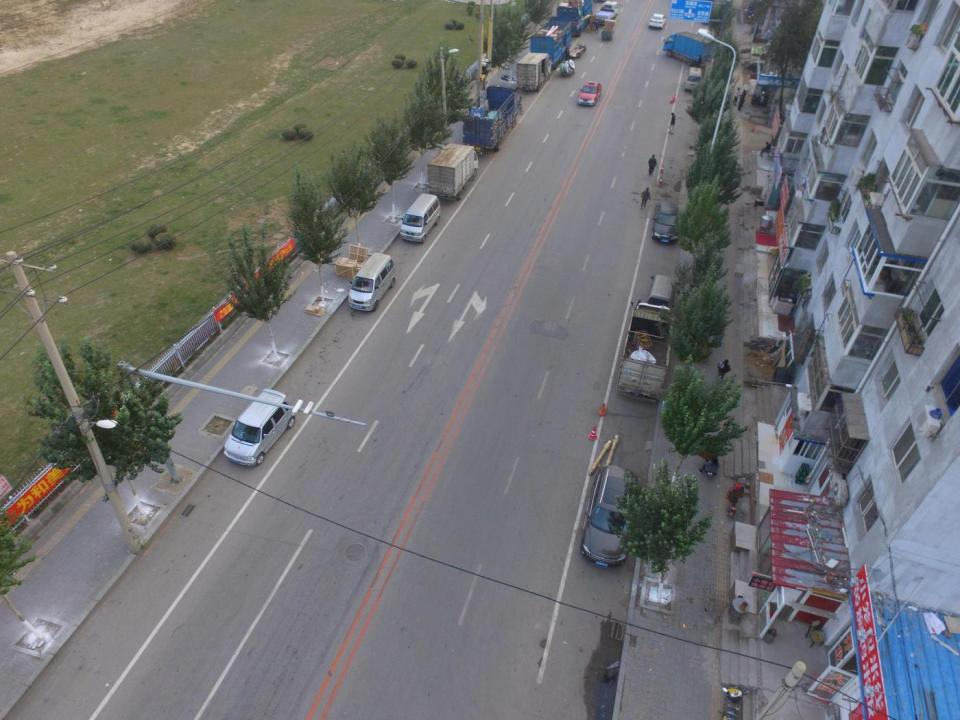car: (580, 466, 638, 570), (223, 387, 295, 467), (651, 203, 681, 244), (577, 81, 602, 106), (649, 12, 667, 30)
truck: (615, 299, 676, 403), (462, 84, 522, 152), (427, 142, 482, 202), (530, 16, 573, 69), (663, 31, 712, 66), (555, 0, 592, 38), (516, 53, 552, 92), (594, 0, 621, 25)
van: (347, 252, 396, 312), (400, 192, 442, 242), (645, 274, 678, 320), (684, 67, 702, 91)
